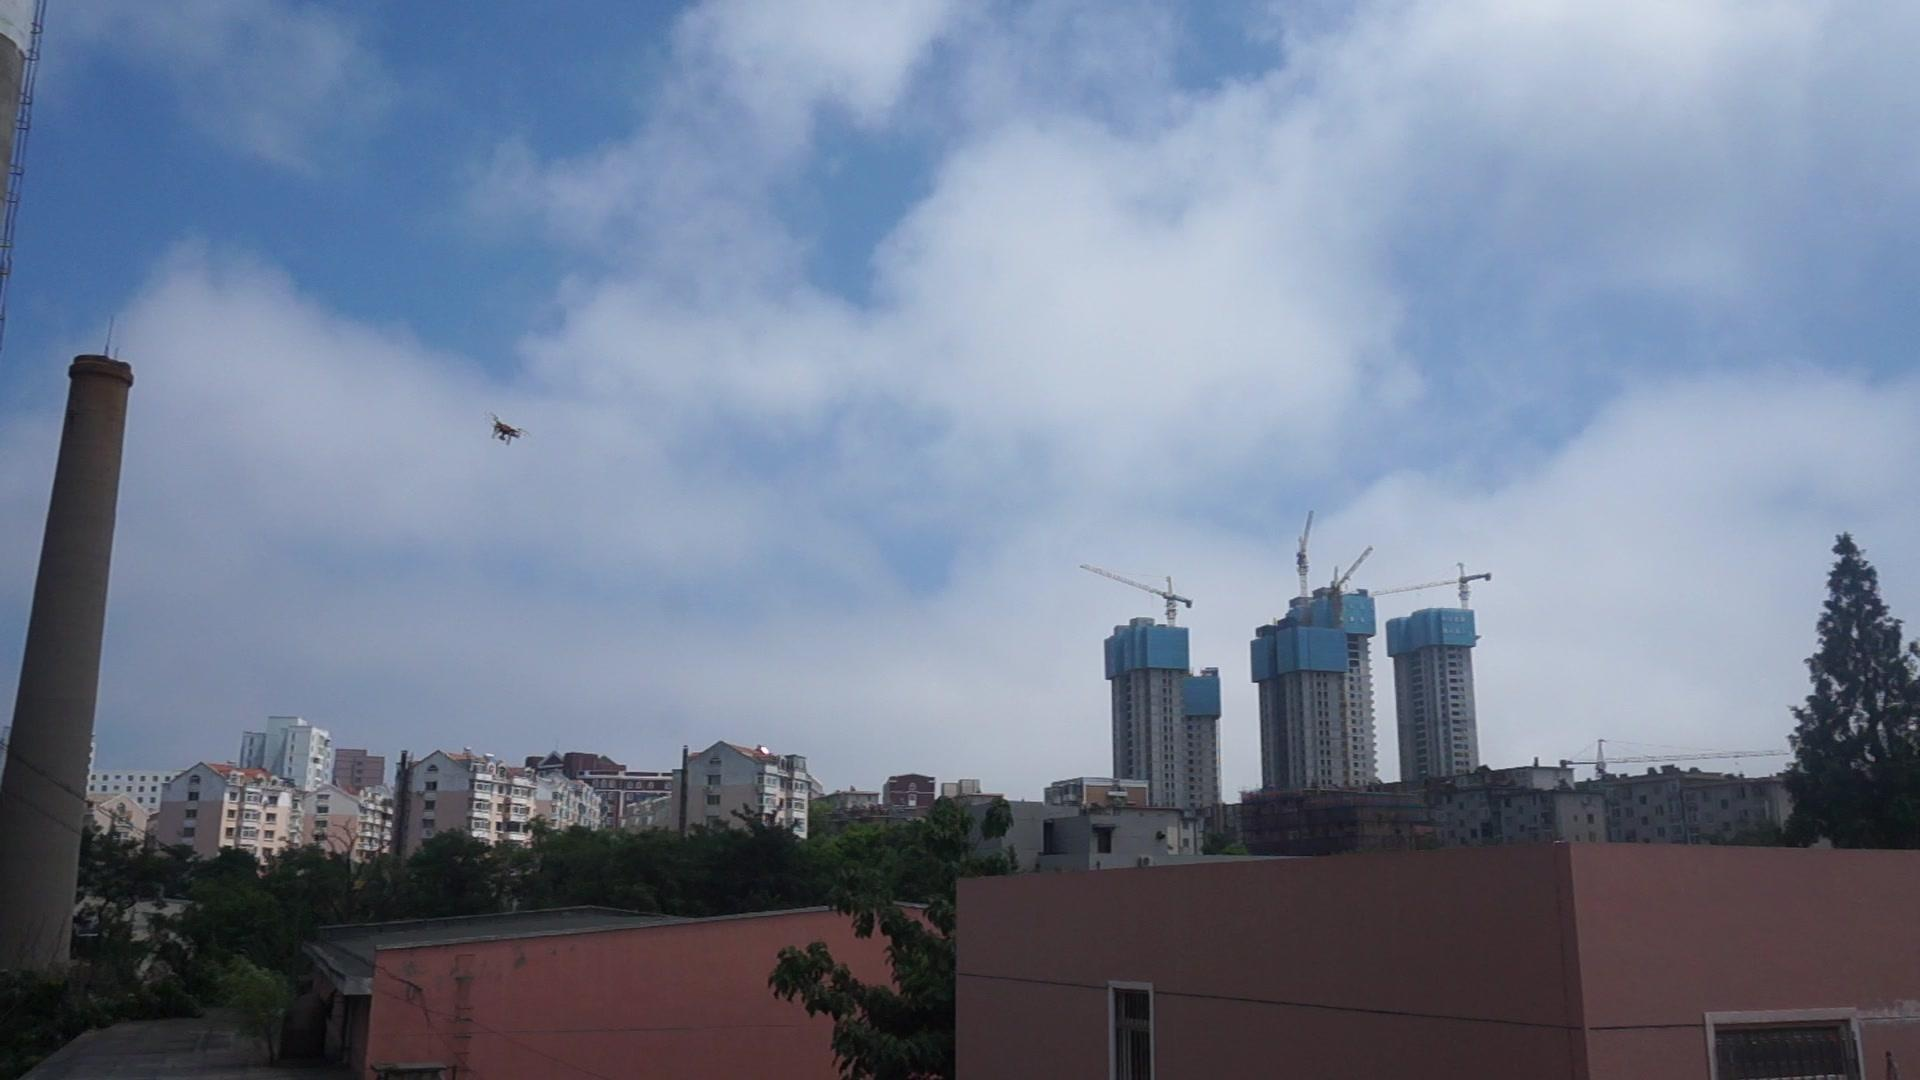UAV: (488, 413, 533, 448)
